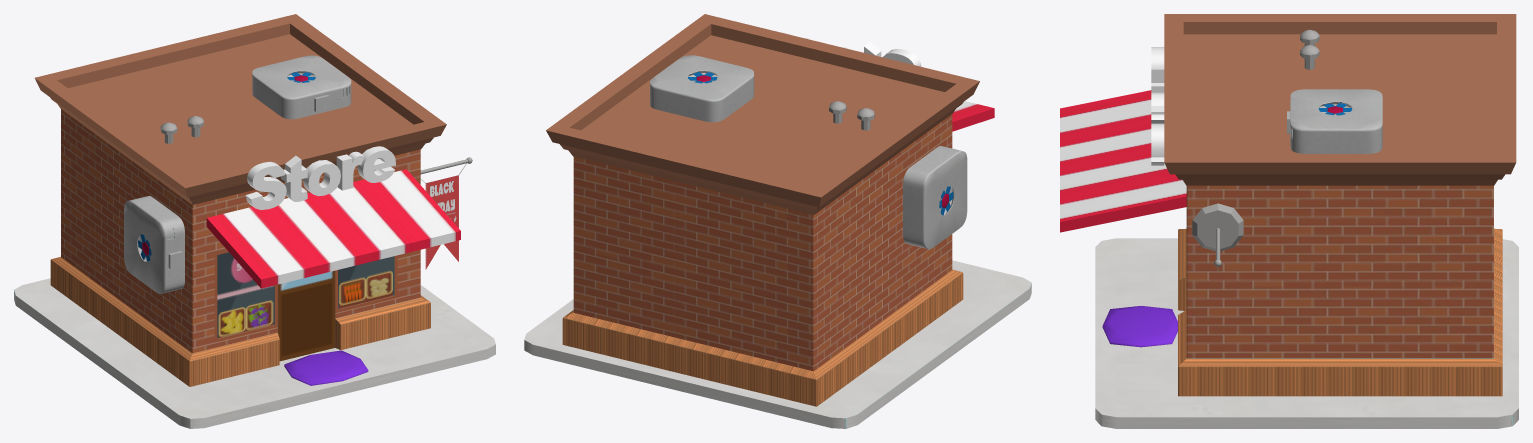
3 views of the same model, side by side, from view 1: azimuth 30°, elevation 25°; view 2: azimuth 150°, elevation 25°; view 3: azimuth 270°, elevation 25° (orthographic). The views are drawn at different scales.
Parts seen in each view (by area): view 1: typeMesh2; view 2: typeMesh2; view 3: typeMesh2.
Part boxes in pixels (x1,y1,x2,y2): typeMesh2: [14, 14, 495, 428]; typeMesh2: [524, 14, 1031, 428]; typeMesh2: [1060, 14, 1518, 428].
Size of the model in its own units: 6.06 by 3.91 by 6.15.
2 materials, 1 textured.
